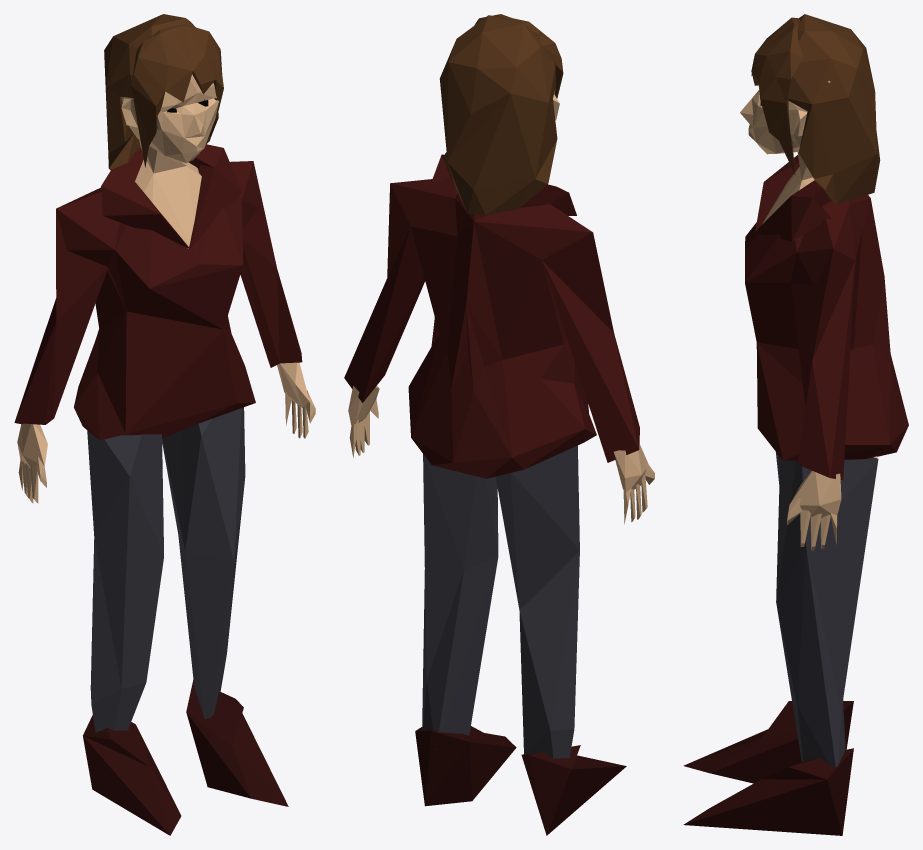
File: Girl.fbx
The picture shows the model from 3 angles, left to right: view 1: azimuth 30°, elevation 25°; view 2: azimuth 150°, elevation 25°; view 3: azimuth 270°, elevation 25°; orthographic projection. The views are drawn at different scales.
Parts seen in each view (by area): view 1: Sphere.005; view 2: Sphere.005; view 3: Sphere.005.
Part boxes in pixels (<box>): Sphere.005: <box>14,14,315,835</box>; Sphere.005: <box>344,14,654,835</box>; Sphere.005: <box>683,14,908,835</box>.
Size of the model in its own units: 173 by 445 by 116.
